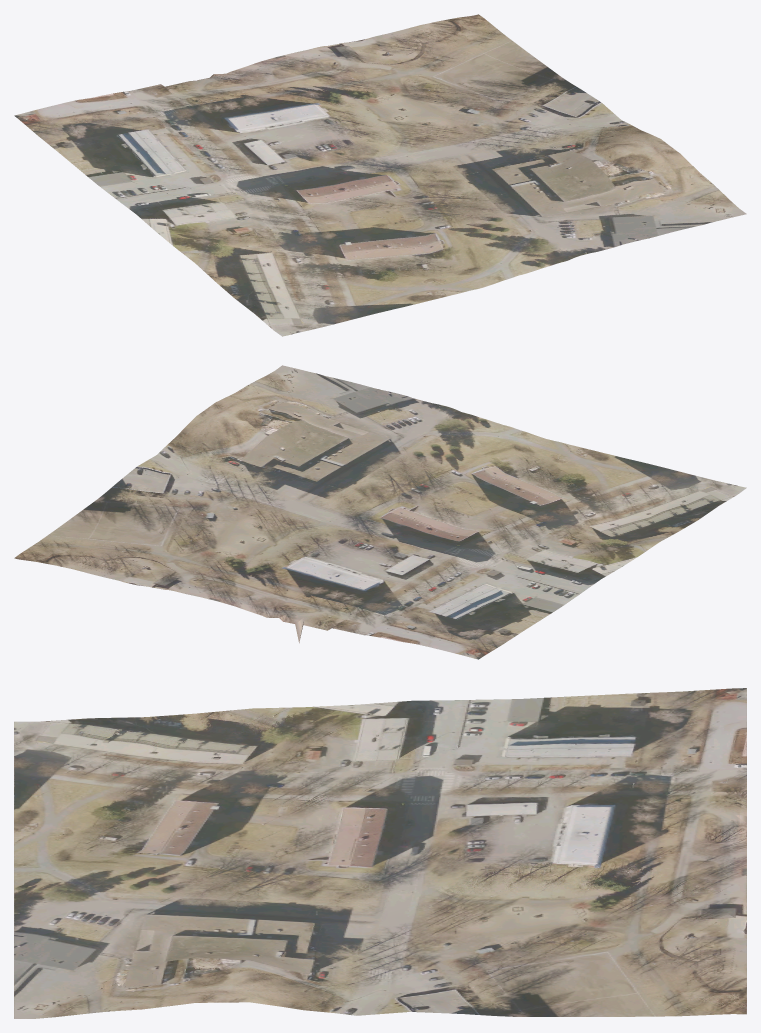
The model's file is CM_Terrain_24489844_6820818.fbx.
3 views of the same model, one above another, from view 1: azimuth 30°, elevation 25°; view 2: azimuth 150°, elevation 25°; view 3: azimuth 270°, elevation 25° (orthographic). The views are drawn at different scales.
Visible parts, largest first — view 1: CM_Terrain_24489844_6820818_LOD0; view 2: CM_Terrain_24489844_6820818_LOD0; view 3: CM_Terrain_24489844_6820818_LOD0.
Part boxes in pixels (bbox=[...]): CM_Terrain_24489844_6820818_LOD0: bbox=[14, 14, 746, 336]; CM_Terrain_24489844_6820818_LOD0: bbox=[14, 365, 746, 659]; CM_Terrain_24489844_6820818_LOD0: bbox=[14, 688, 746, 1018].
Size of what is drawn, in the model's own units: 205 by 11.98 by 205.
